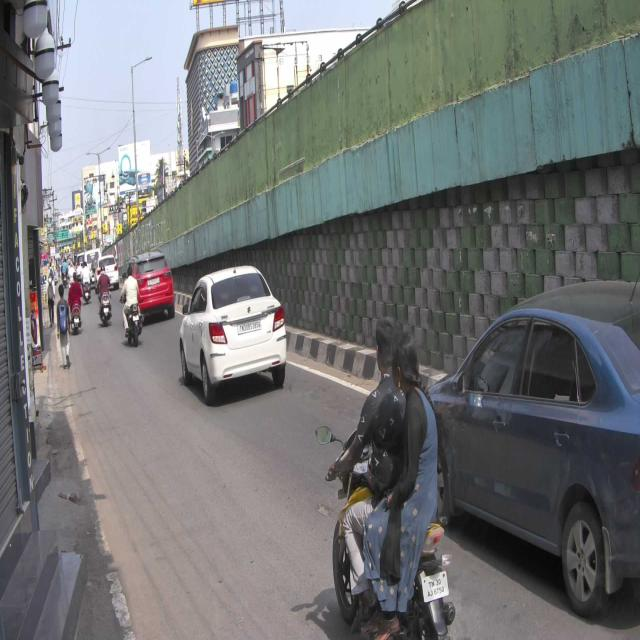double_rider: (325, 310, 456, 640)
